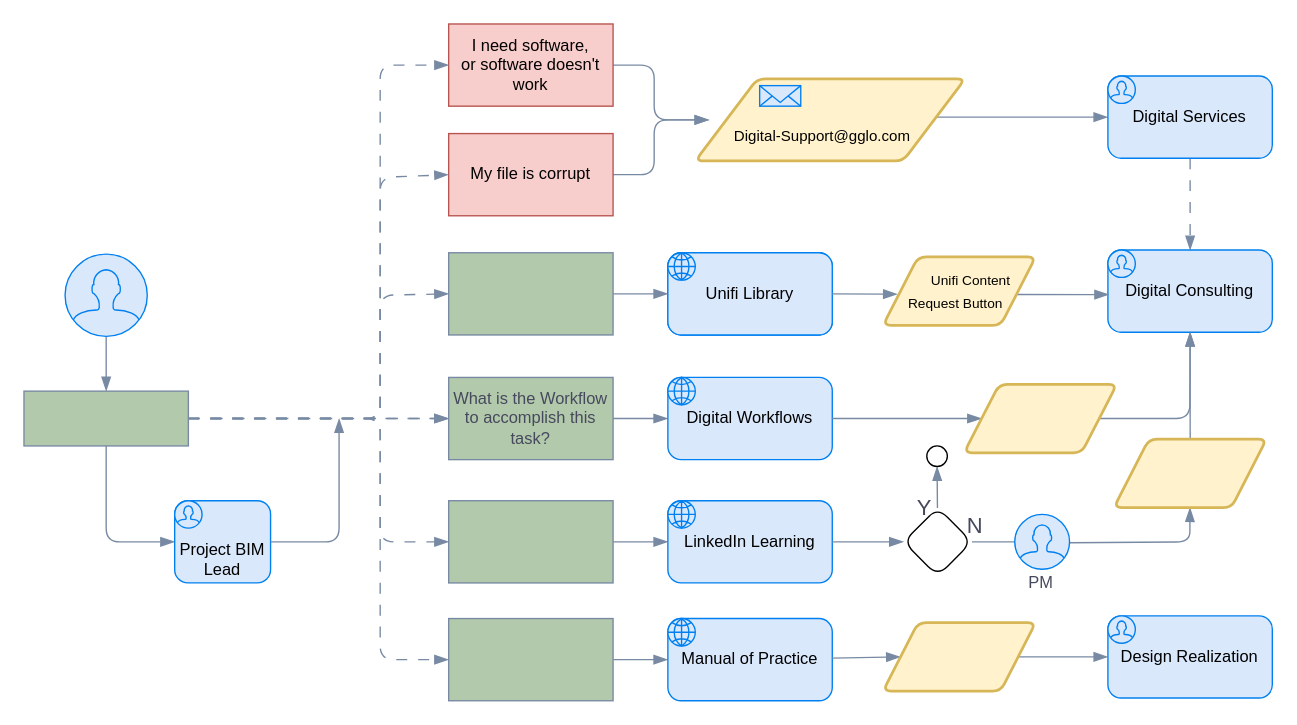
This 1297x725 diagram has some shape labels left out. Here are the shapes that lost their labels. From the top down, the centre of each, then its label:
point (530, 293): I cannot find or need a new/modified Revit family
point (105, 418): GGLO Staff Question
point (1040, 417): #AskAdobe #AskRevit #AskRhino etc...
point (1189, 472): Training Request
point (530, 541): How do I use the software to accomplish this task?
point (530, 659): What are the graphic standards of the view I'm working in?
point (958, 656): #AskQM
